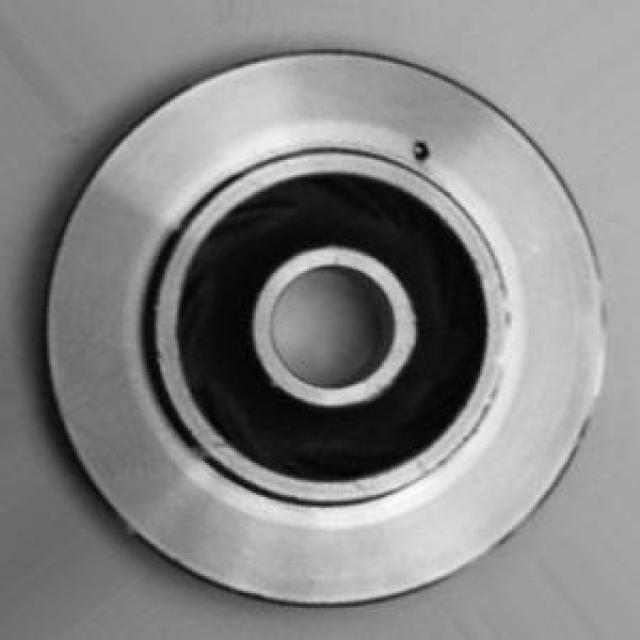Defect: (403, 133, 440, 170)
